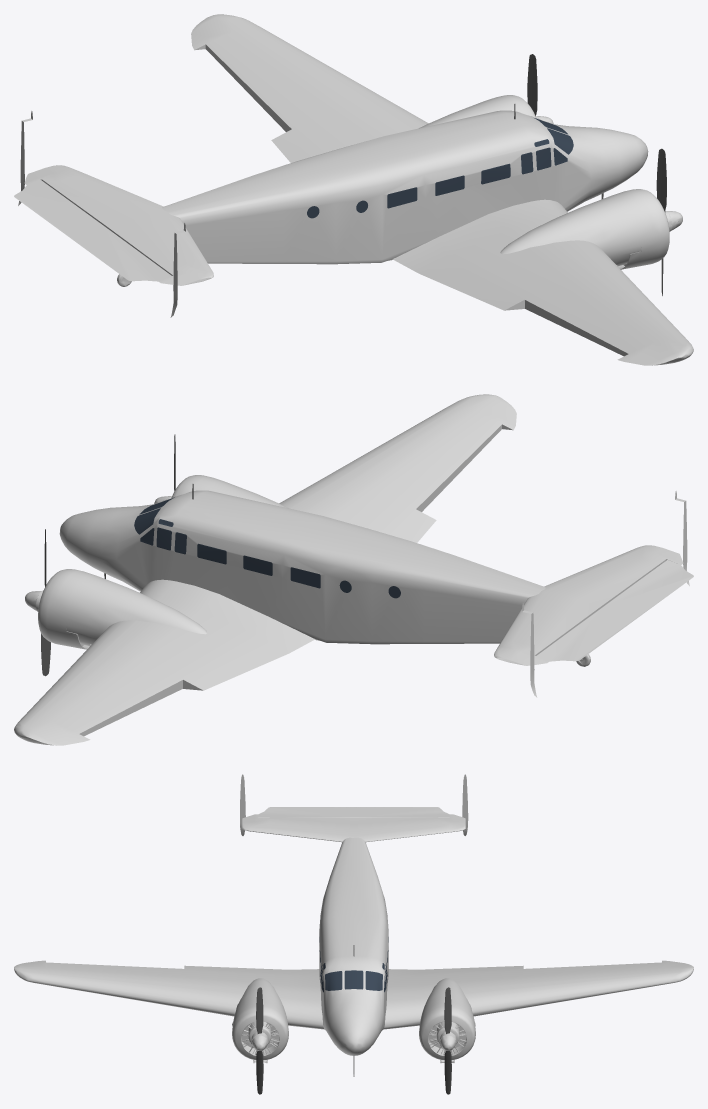
The picture shows the model from 3 angles, top to bottom: view 1: azimuth 30°, elevation 25°; view 2: azimuth 150°, elevation 25°; view 3: azimuth 270°, elevation 25°; orthographic projection. The views are drawn at different scales.
Visible parts, largest first — view 1: body, glass, spin (×2); view 2: body, glass; view 3: body, glass, spin (×2).
Boxes of the visible parts, x1,y1,x2,y2 form: body: (14,14,693,365); glass: (307,118,573,218); spin (×2): (527,54,666,295); body: (14,394,693,745); glass: (134,497,400,598); body: (14,774,693,1062); glass: (319,937,388,992); spin (×2): (256,987,451,1094).
Bounding box in the file's own units: 1.56 × 0.5243 × 2.2.
